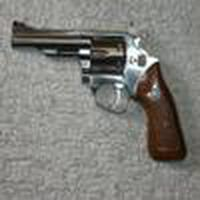gun: (10, 16, 189, 173)
